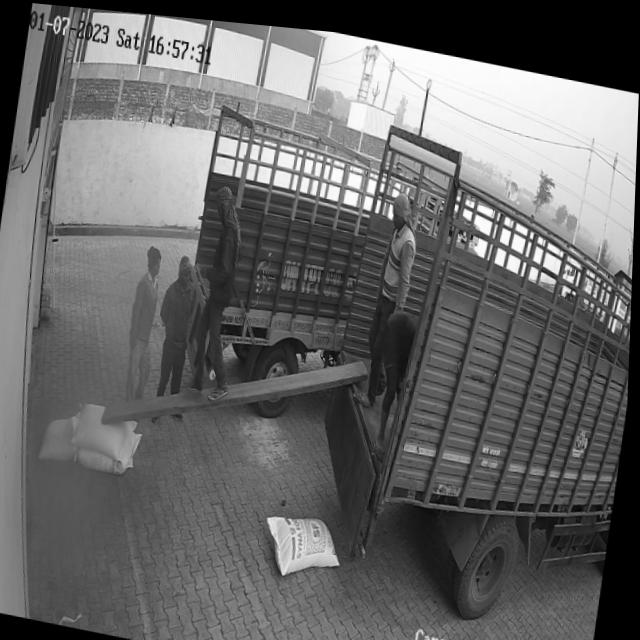sack: (261, 501, 349, 578), (72, 395, 141, 458), (74, 417, 145, 475), (39, 407, 84, 464)
